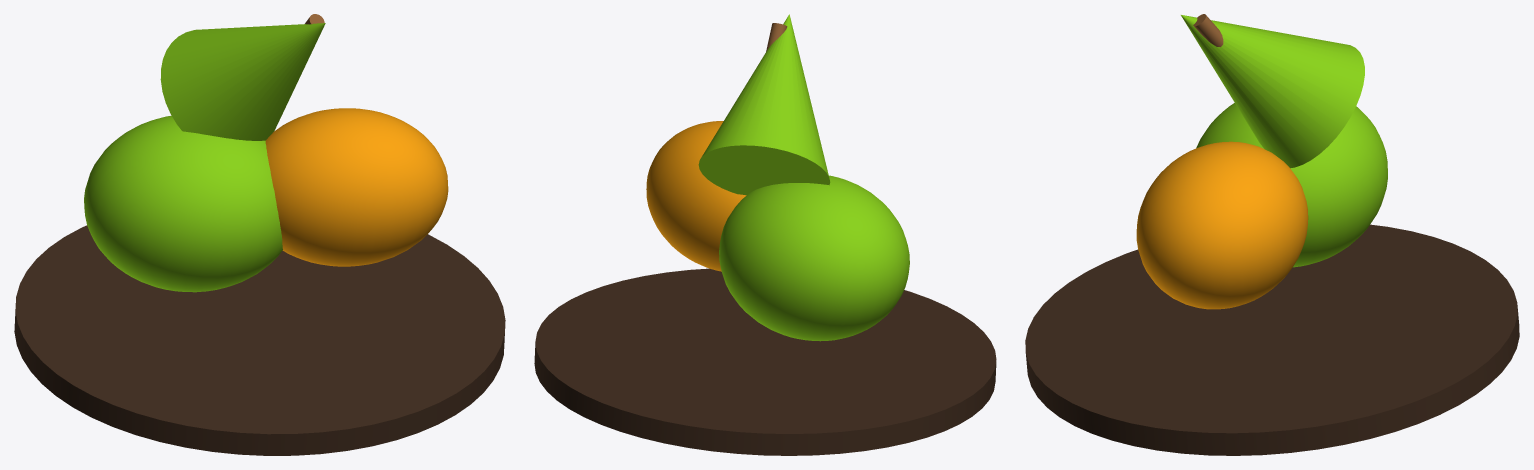
File: Biological.glb
3 views of the same model, side by side, from view 1: azimuth 30°, elevation 25°; view 2: azimuth 150°, elevation 25°; view 3: azimuth 270°, elevation 25° (orthographic). The views are drawn at different scales.
Size of the model in its own units: 2.36 by 1.91 by 2.36.
